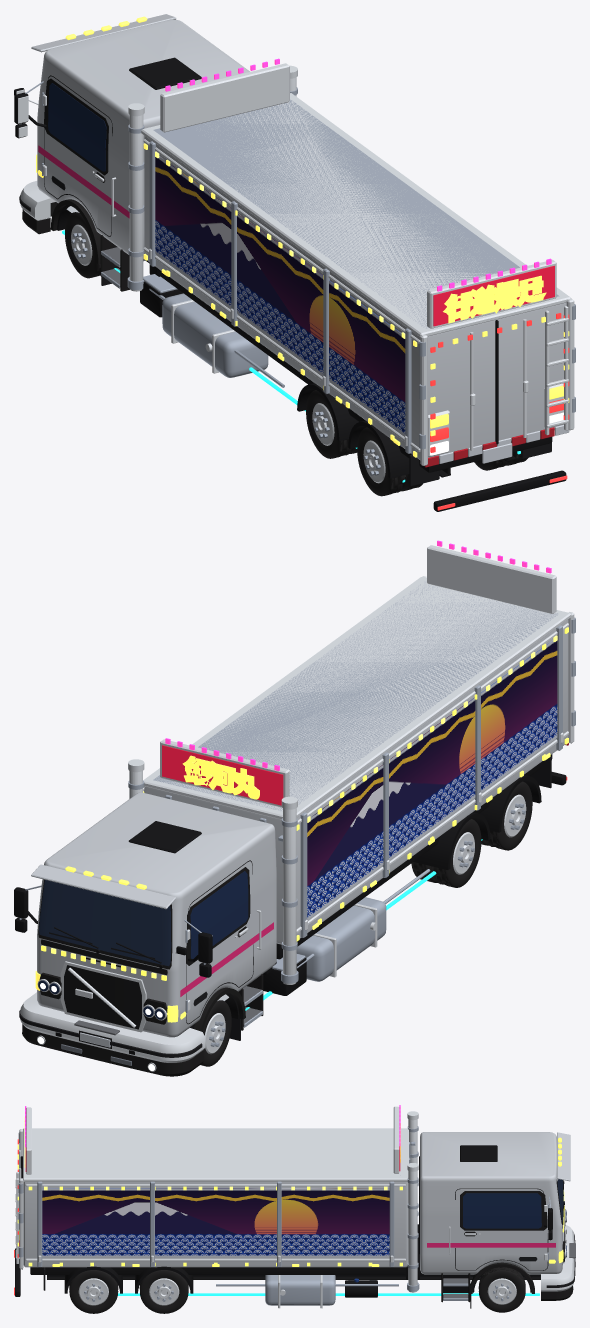
File: dekotora_truck_base_classica.glb
3 renders of one model, top to bottom at view 1: azimuth 30°, elevation 25°; view 2: azimuth 150°, elevation 25°; view 3: azimuth 270°, elevation 25°, orthographic. The views are drawn at different scales.
Visible parts, largest first — view 1: truck_chrome, truck_steel, truck_paint_white_panel, truck_mural, truck_plastic_black, truck_lamp_amber, truck_glass, truck_plastic_trim, wheel_r_L_1.5_1.06, wheel_r_L_3.0_1.06, truck_andon_panel, wheel_f_L (+5 smaller); view 2: truck_chrome, truck_steel, truck_paint_white_panel, truck_mural, truck_plastic_black, truck_glass_wind, truck_plastic_trim, truck_lamp_amber, truck_grille_honeycomb, truck_glass, truck_andon_panel, wheel_r_L_3.0_1.06 (+5 smaller); view 3: truck_chrome, truck_mural, truck_paint_white_panel, truck_plastic_black, truck_steel, truck_glass, truck_plastic_trim, wheel_f_R, wheel_r_R_1.5_1.06, wheel_r_R_3.0_1.06, truck_lamp_amber, truck_paint_pink (+2 smaller).
Part boxes in pixels (x1=…): truck_chrome: x1=16, y1=63, x2=574, y2=465; truck_steel: x1=20, y1=81, x2=575, y2=453; truck_paint_white_panel: x1=31, y1=14, x2=566, y2=459; truck_mural: x1=155, y1=156, x2=405, y2=435; truck_plastic_black: x1=14, y1=57, x2=566, y2=511; truck_lamp_amber: x1=36, y1=16, x2=569, y2=457; truck_glass: x1=48, y1=83, x2=106, y2=171; truck_plastic_trim: x1=22, y1=78, x2=129, y2=291; wheel_r_L_1.5_1.06: x1=357, y1=427, x2=407, y2=496; wheel_r_L_3.0_1.06: x1=306, y1=390, x2=353, y2=458; truck_andon_panel: x1=433, y1=265, x2=554, y2=326; wheel_f_L: x1=65, y1=212, x2=100, y2=278; truck_chrome: x1=20, y1=545, x2=574, y2=1071; truck_steel: x1=19, y1=582, x2=575, y2=1027; truck_paint_white_panel: x1=31, y1=620, x2=568, y2=1037; truck_mural: x1=307, y1=640, x2=557, y2=920; truck_plastic_black: x1=14, y1=754, x2=566, y2=1054; truck_glass_wind: x1=39, y1=880, x2=171, y2=966; truck_plastic_trim: x1=22, y1=867, x2=263, y2=1076; truck_lamp_amber: x1=35, y1=627, x2=568, y2=1022; truck_grille_honeycomb: x1=64, y1=965, x2=141, y2=1029; truck_glass: x1=38, y1=871, x2=248, y2=1019; truck_andon_panel: x1=162, y1=745, x2=283, y2=805; wheel_r_L_3.0_1.06: x1=431, y1=819, x2=481, y2=887; truck_chrome: x1=15, y1=1106, x2=574, y2=1308; truck_mural: x1=42, y1=1188, x2=389, y2=1257; truck_paint_white_panel: x1=23, y1=1132, x2=570, y2=1274; truck_plastic_black: x1=15, y1=1145, x2=575, y2=1297; truck_steel: x1=18, y1=1126, x2=550, y2=1305; truck_glass: x1=463, y1=1193, x2=566, y2=1257; truck_plastic_trim: x1=441, y1=1181, x2=572, y2=1302; wheel_f_R: x1=478, y1=1267, x2=525, y2=1312; wheel_r_R_1.5_1.06: x1=69, y1=1270, x2=118, y2=1313; wheel_r_R_3.0_1.06: x1=139, y1=1270, x2=188, y2=1313; truck_lamp_amber: x1=17, y1=1117, x2=564, y2=1266; truck_paint_pink: x1=427, y1=1243, x2=555, y2=1247.
Bounding box in the file's own units: 3.33 × 3.91 × 11.97.
Materials: 25 (9 with a texture image).
